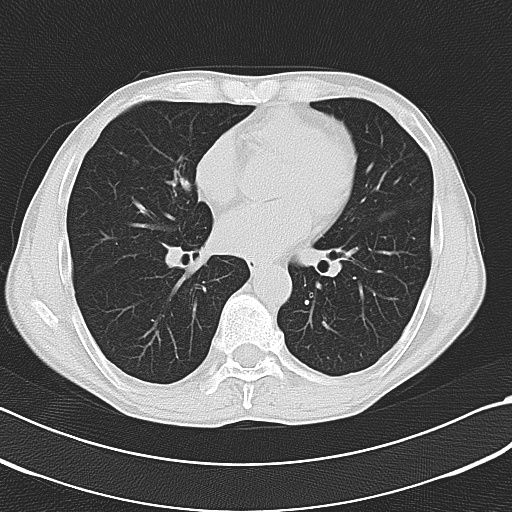Copy of non-cancer: (282, 283, 353, 332)
non-cancer: (138, 164, 209, 213)
